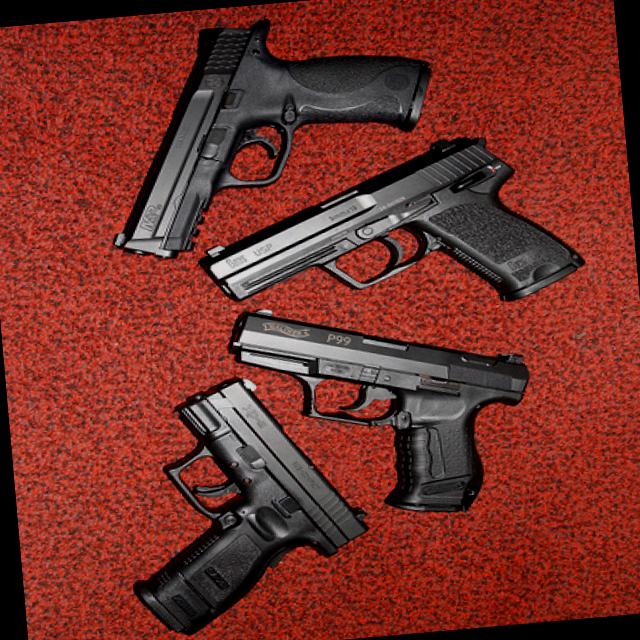handgun: (90, 5, 450, 262), (190, 125, 584, 324), (230, 278, 538, 530), (116, 366, 379, 632)
